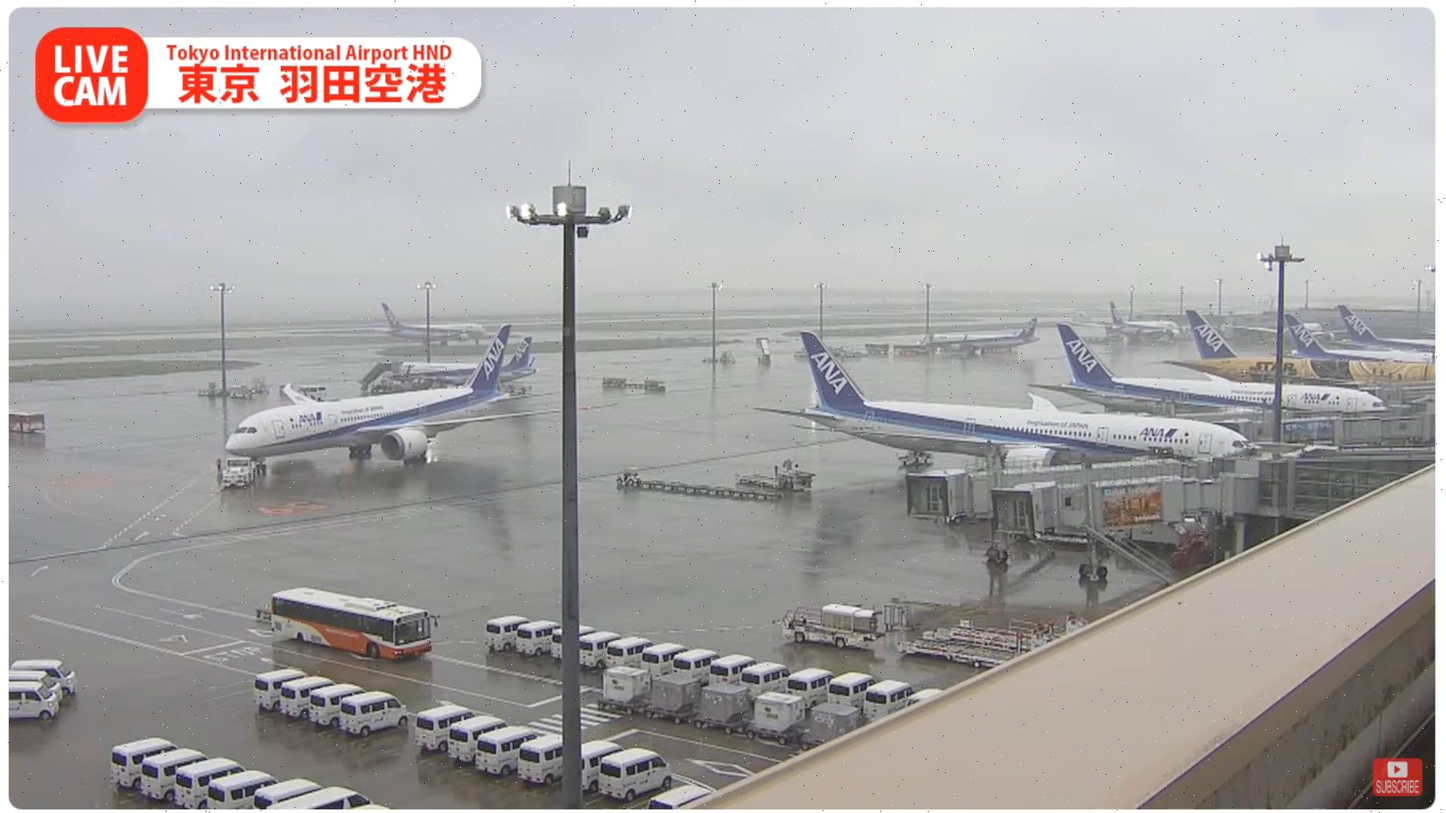APS: (221, 456, 256, 485)
Aerobridge: (904, 455, 1210, 522), (991, 474, 1261, 535)
Airplane: (222, 322, 616, 473)
JCPL: (924, 615, 1087, 656), (895, 630, 1024, 671)
Skyloader: (778, 603, 887, 649)
Window: (1292, 458, 1433, 516)
